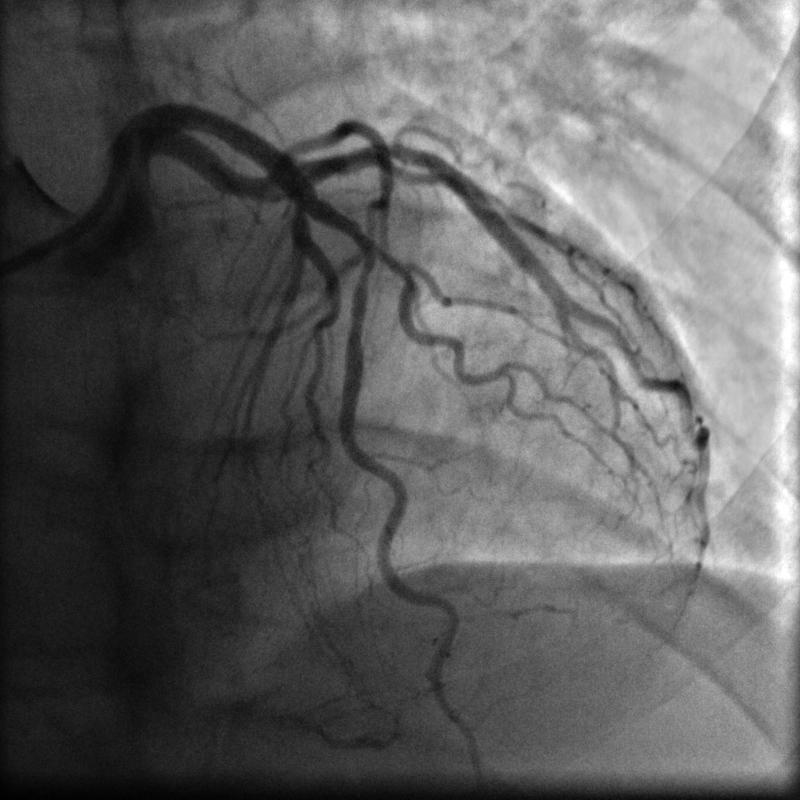Stenosis: (351, 235, 378, 316)
